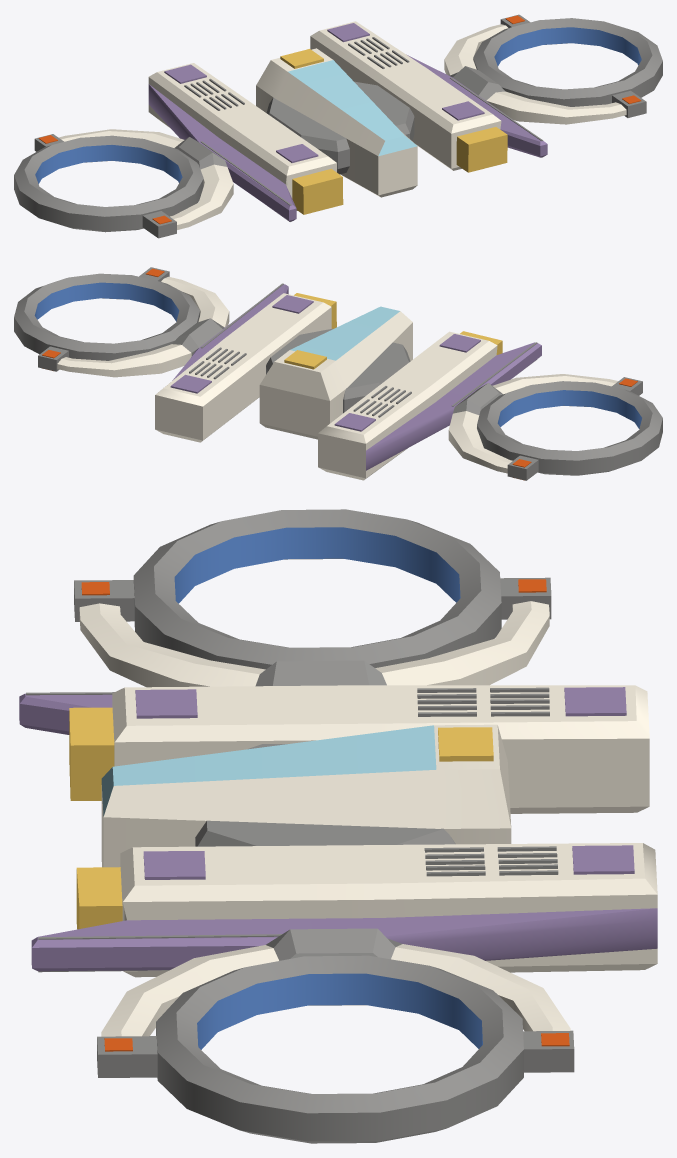
The model's file is Spaceship_1.fbx.
The picture shows the model from 3 angles, top to bottom: view 1: azimuth 30°, elevation 25°; view 2: azimuth 150°, elevation 25°; view 3: azimuth 270°, elevation 25°; orthographic projection. The views are drawn at different scales.
Visible parts, largest first — view 1: Spaceship_1; view 2: Spaceship_1; view 3: Spaceship_1.
Part boxes in pixels (left/top/right/bottom): Spaceship_1: left=14, top=14, right=662, bottom=238; Spaceship_1: left=14, top=267, right=662, bottom=480; Spaceship_1: left=19, top=509, right=657, bottom=1143.
Bounding box in the file's own units: 830 × 372 × 88.5.
